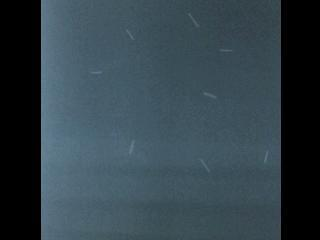scratch: (180, 6, 205, 30), (192, 151, 215, 177), (199, 85, 220, 106), (120, 24, 140, 45), (125, 133, 138, 163), (88, 64, 107, 81), (259, 145, 272, 169), (215, 43, 237, 57)
